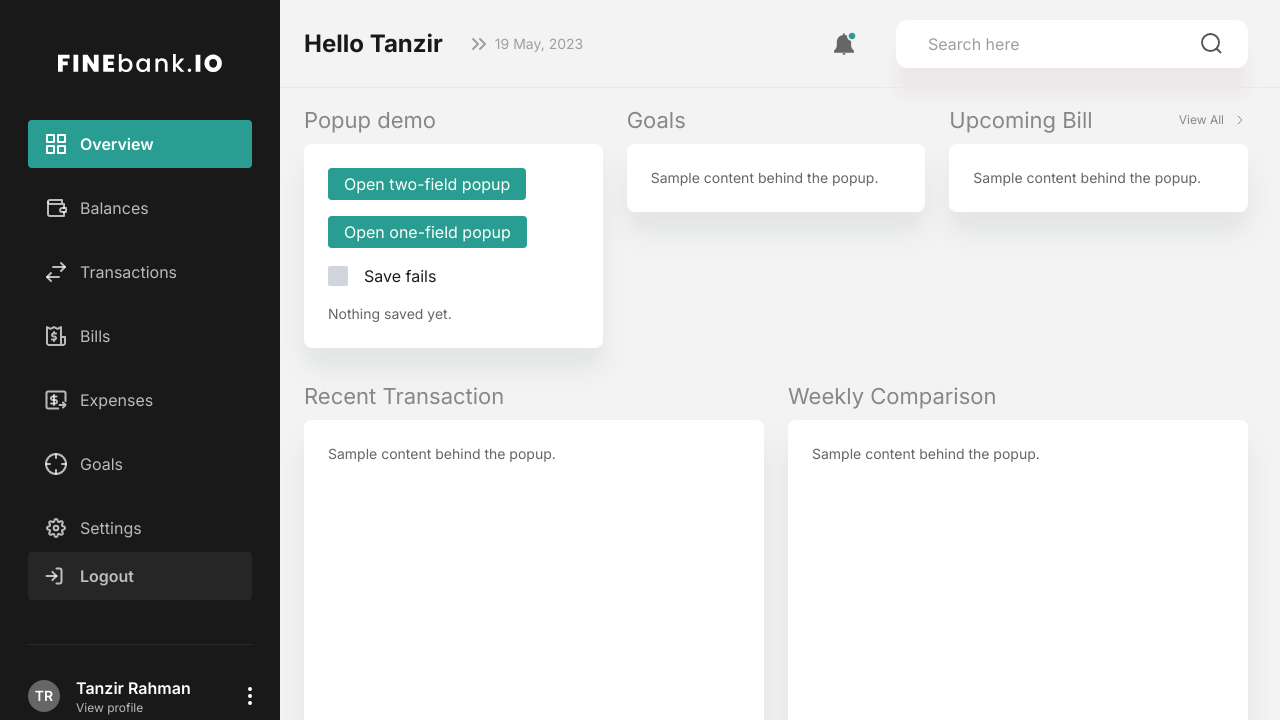
popup demo page › opens the one-field popup and shows the cents read on Save
Expected: the button "Open two-field popup" is shown, [328,168,526,200]
Click the button "Open one-field popup": (427, 232) [328,216,527,248]
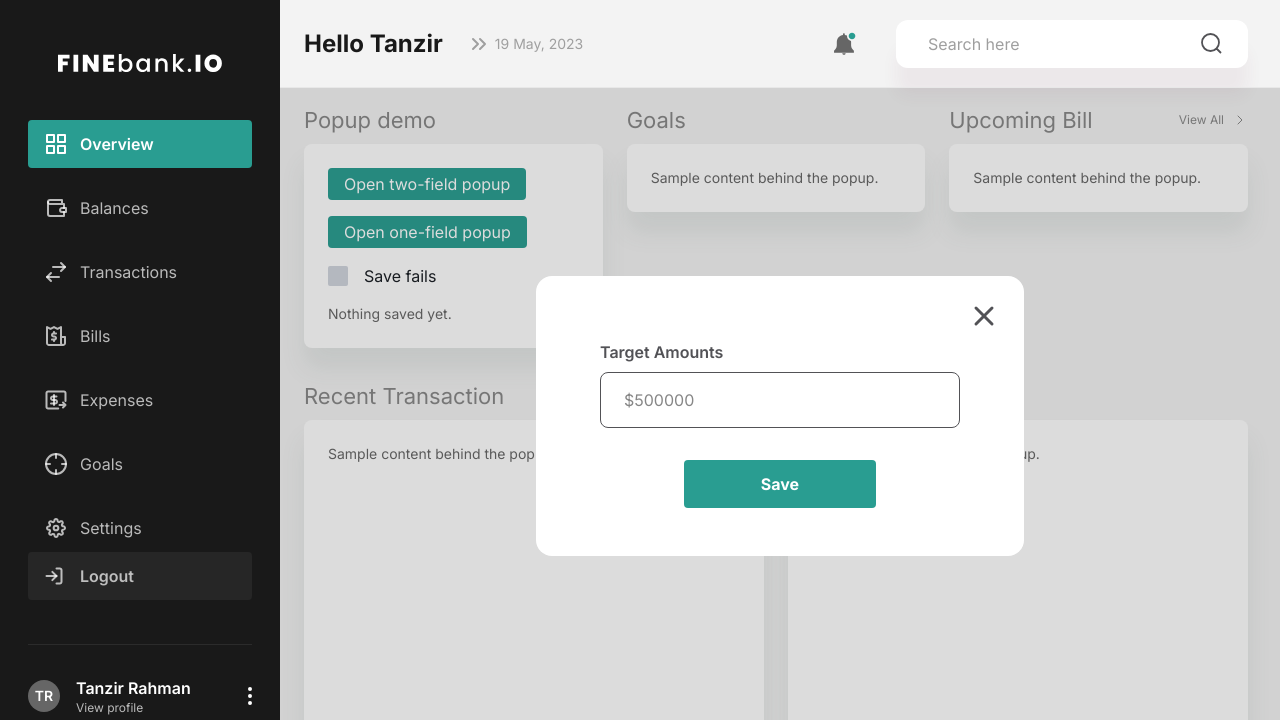
Result: the number of fields is 1
Result: the field labelled "Target Amounts" holds "500000"
Replace the text in the field labelled "Target Amounts" with "1250.5": (785, 400) [634,373,936,427]
Then press Enter
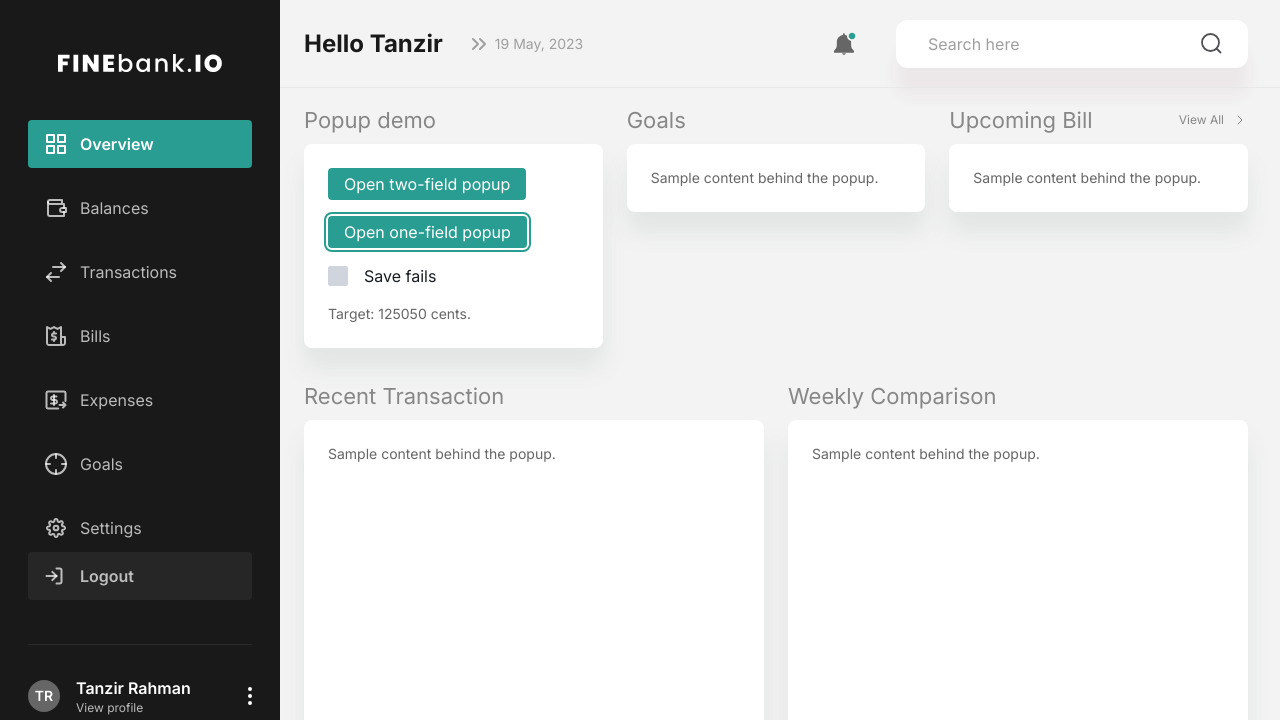
Result: the dialog is gone
Result: the message reads "Target: 125050 cents." at [328,305,471,322]
